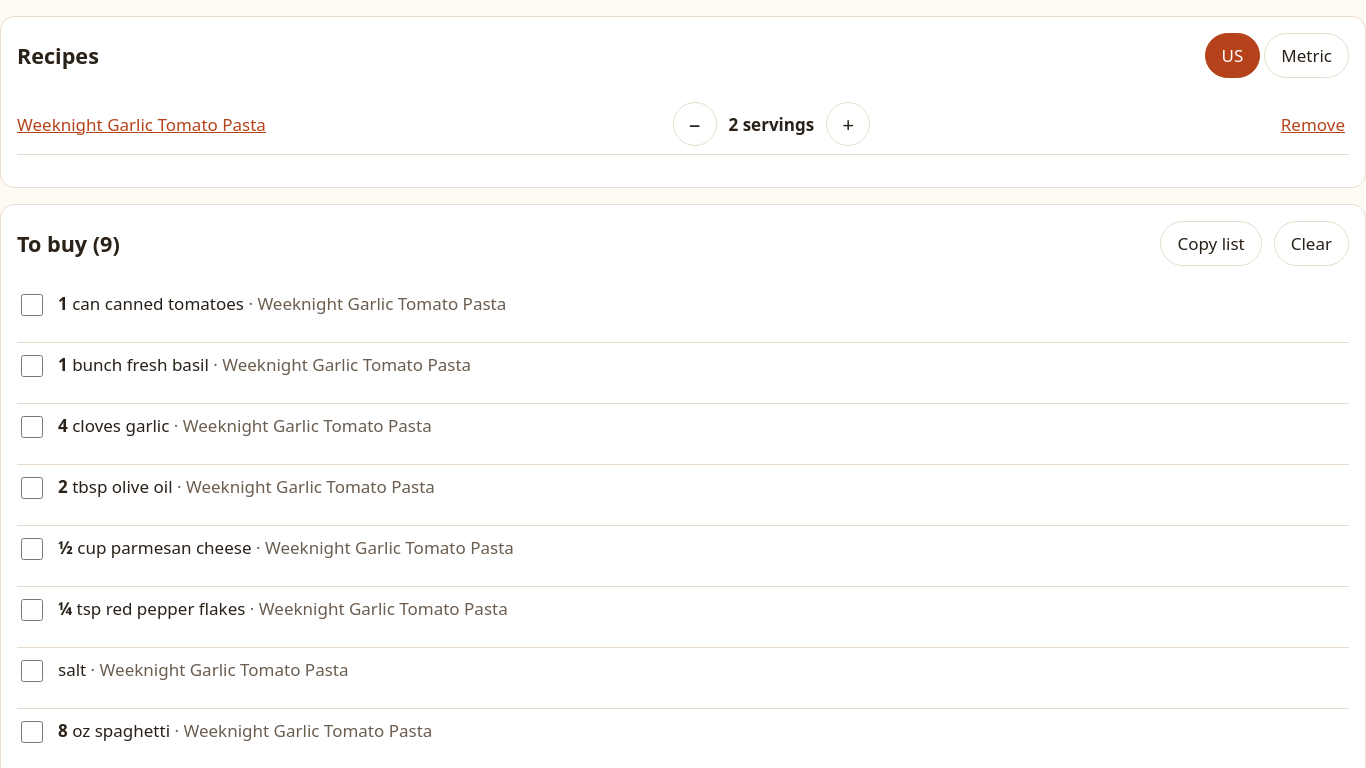
ShoppingListView › changes servings and removes a recipe
The image size is (1366, 768).
Click the button named "More servings" at (848, 124), box [826,102,870,146]
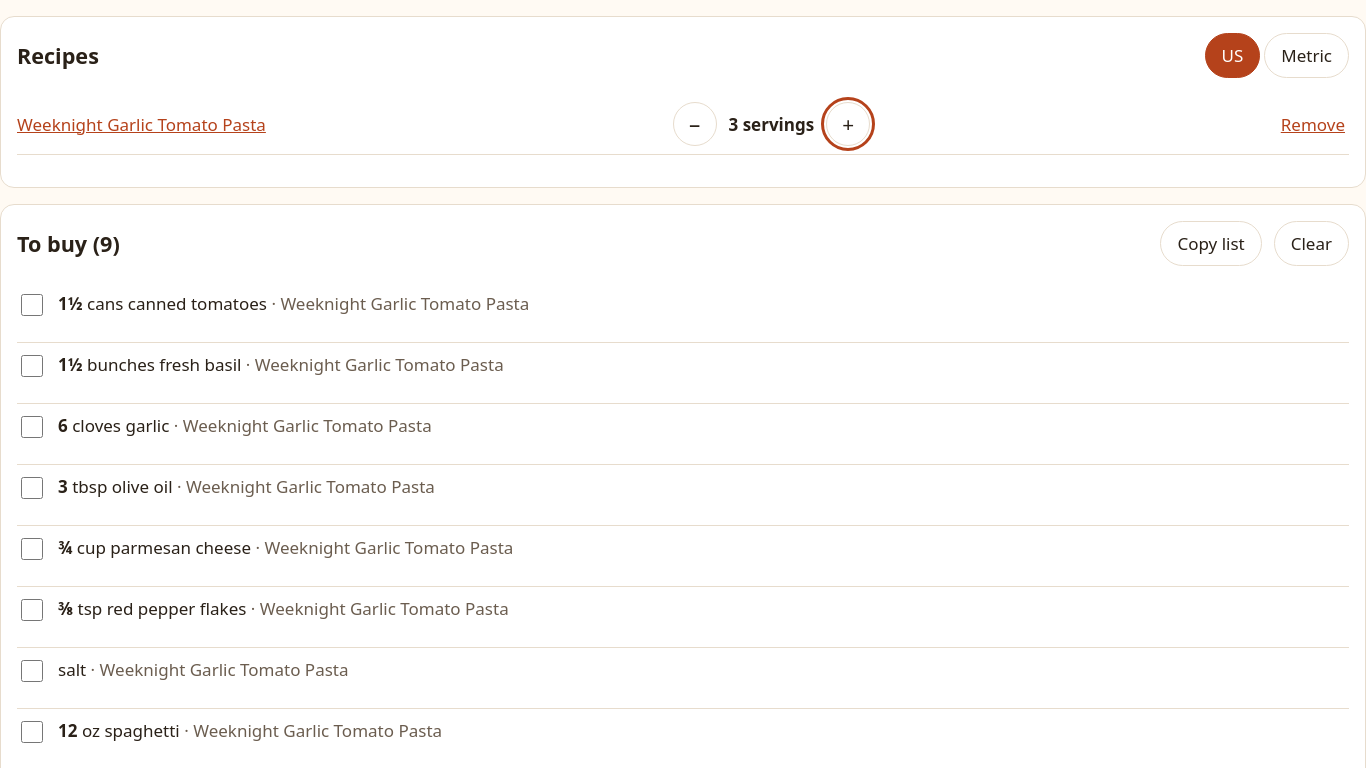
Click the button named "More servings" at (848, 124), box [826,102,870,146]
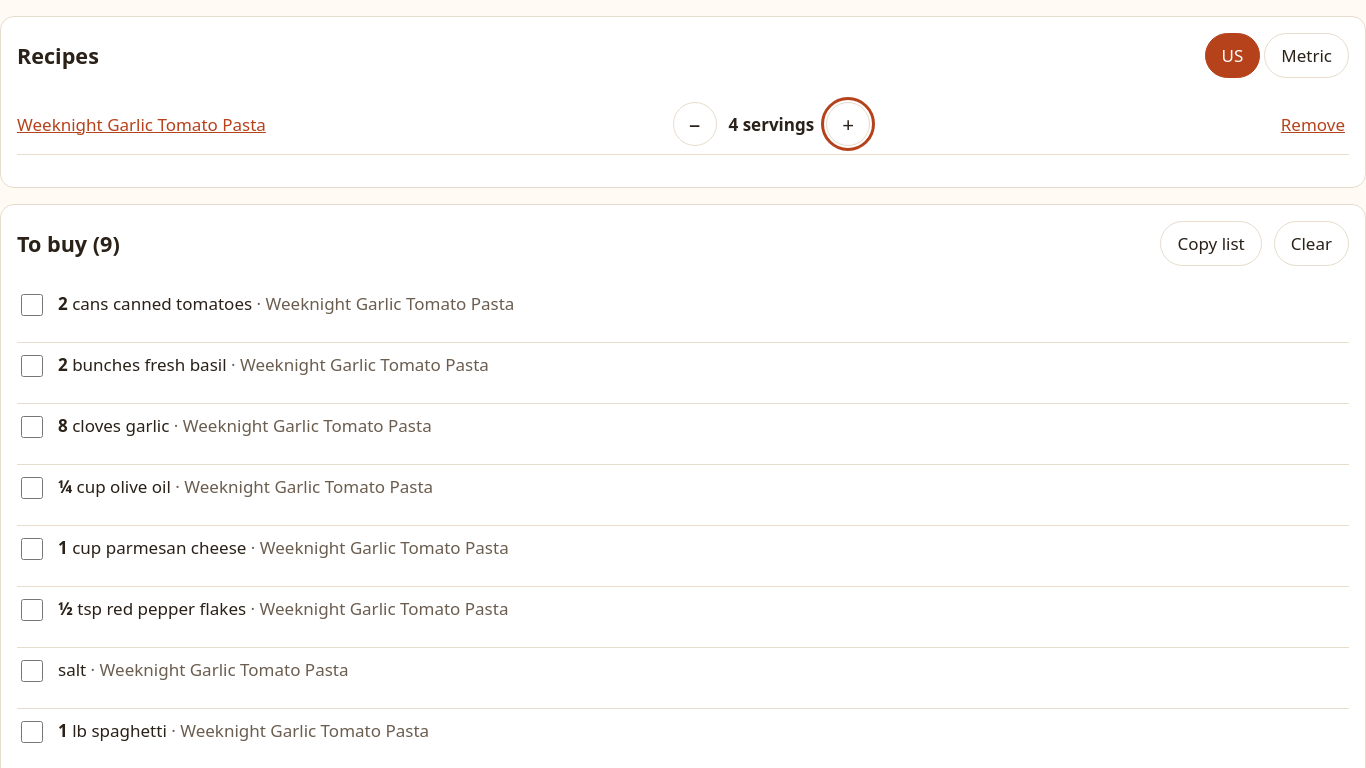
Expected: the label "1 lb spaghetti · Weeknight Garlic Tomato Pasta" is shown, [21,719,429,743]
Click the button named "Remove Weeknight Garlic Tomato Pasta" at (1313, 124), box [1277,102,1349,146]
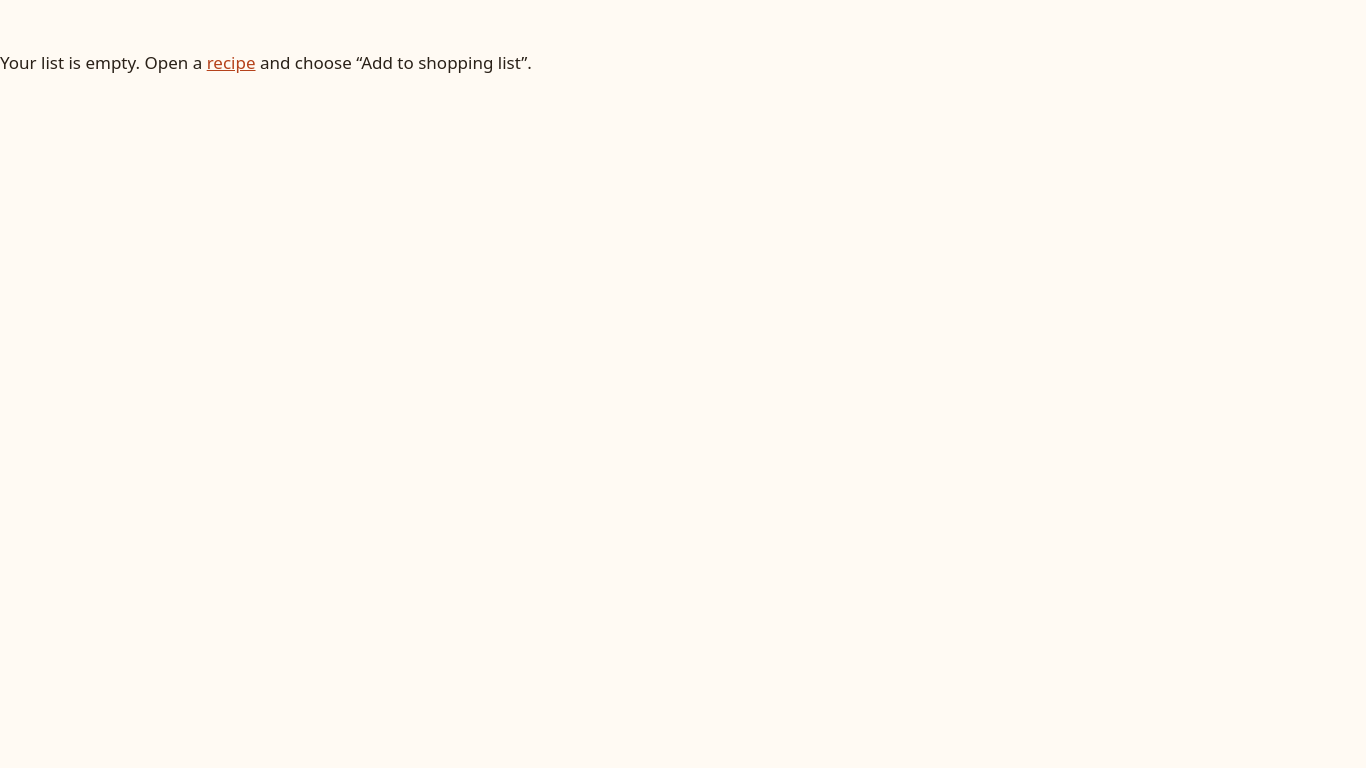
Expected: the text "Your list is empty" is shown, [0,51,207,74]
